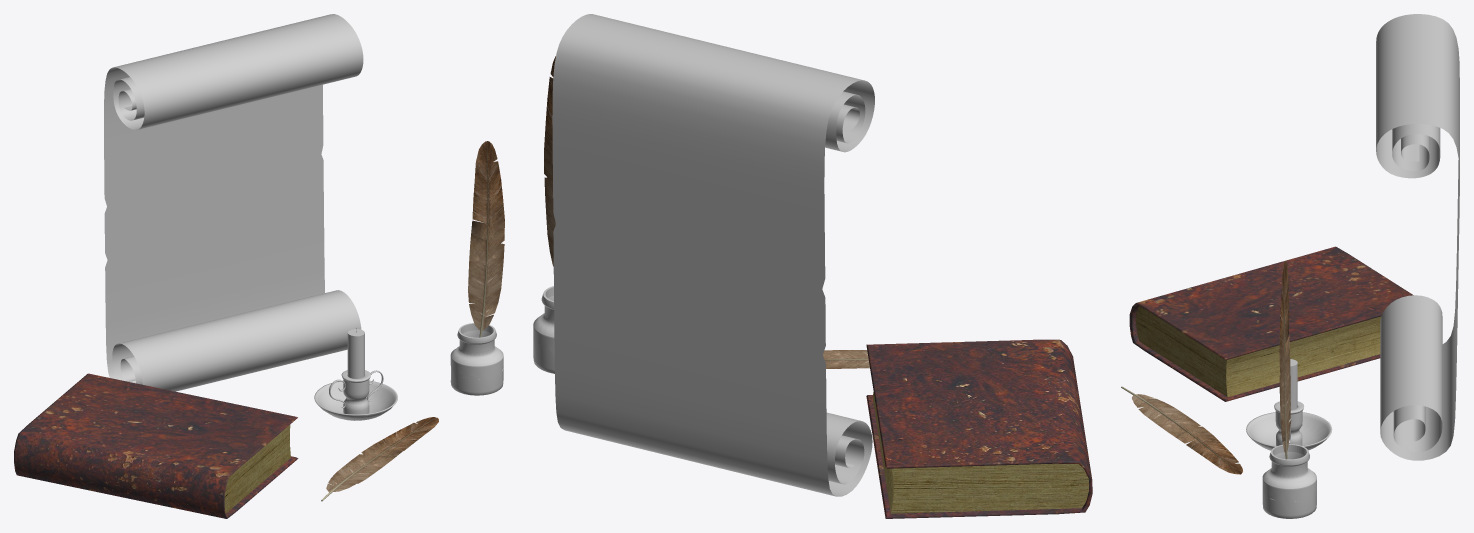
The model's file is ScrollBookCandle.fbx.
3 views of the same model, side by side, from view 1: azimuth 30°, elevation 25°; view 2: azimuth 150°, elevation 25°; view 3: azimuth 270°, elevation 25° (orthographic). The views are drawn at different scales.
Parts seen in each view (by area): view 1: Scroll, Book, Feather1, Candle, ink_bottle, Feather2; view 2: Scroll, Book, ink_bottle, Feather1, Feather2; view 3: Book, Scroll, ink_bottle, Candle, Feather2, Feather1.
Boxes of the visible parts, <box> form: Scroll: <box>104,14,363,391</box>; Book: <box>14,373,298,518</box>; Feather1: <box>468,141,504,337</box>; Candle: <box>314,327,397,420</box>; ink_bottle: <box>450,323,503,395</box>; Feather2: <box>321,417,438,501</box>; Scroll: <box>552,14,874,496</box>; Book: <box>866,339,1092,518</box>; ink_bottle: <box>533,286,554,373</box>; Feather1: <box>544,56,555,266</box>; Feather2: <box>823,350,869,368</box>; Book: <box>1129,246,1413,401</box>; Scroll: <box>1376,14,1459,460</box>; ink_bottle: <box>1262,444,1316,518</box>; Candle: <box>1246,359,1332,450</box>; Feather2: <box>1121,386,1242,474</box>; Feather1: <box>1279,261,1291,459</box>.
Size of what is drawn, in the model's own units: 48.89 by 33.95 by 29.92.
